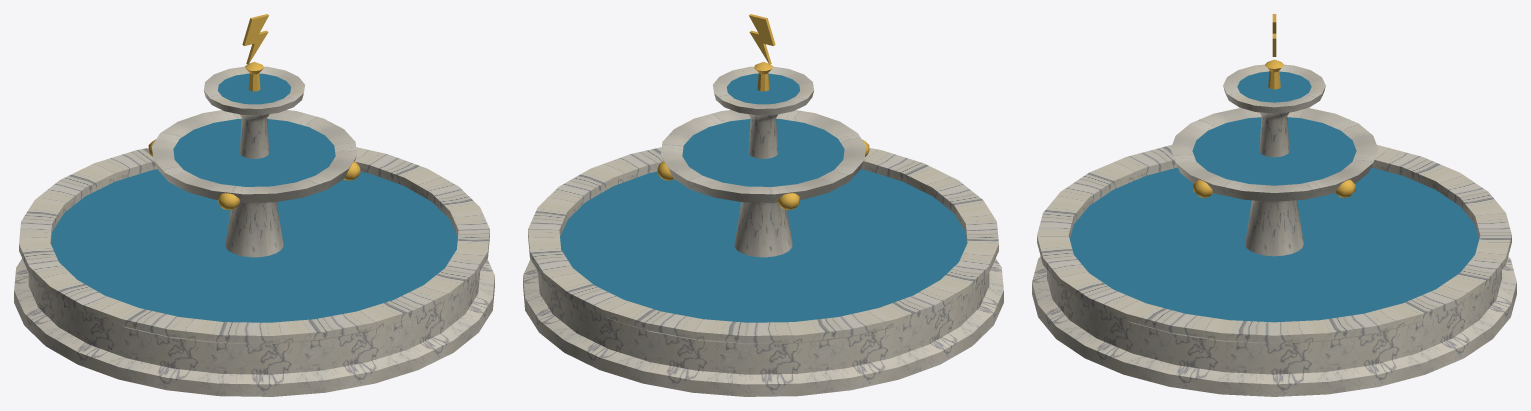
Rendered from civic_fountain-plaza.glb.
3 views of the same model, side by side, from view 1: azimuth 30°, elevation 25°; view 2: azimuth 150°, elevation 25°; view 3: azimuth 270°, elevation 25° (orthographic).
Parts seen in each view (by area): view 1: water.003, step, marble, gold; view 2: water.003, step, marble, gold; view 3: water.003, step, marble, gold.
Part boxes in pixels (<box>): water.003: <box>51,73,457,322</box>; step: <box>14,147,494,396</box>; marble: <box>151,66,357,257</box>; gold: <box>148,14,360,209</box>; water.003: <box>560,73,966,322</box>; step: <box>523,147,1003,396</box>; marble: <box>660,66,866,257</box>; gold: <box>657,14,869,209</box>; water.003: <box>1070,71,1478,322</box>; step: <box>1032,145,1516,396</box>; marble: <box>1170,64,1378,256</box>; gold: <box>1193,14,1355,197</box>.
Size of the model in its own units: 4.9 by 3.11 by 4.9.
4 materials, 2 textured.
